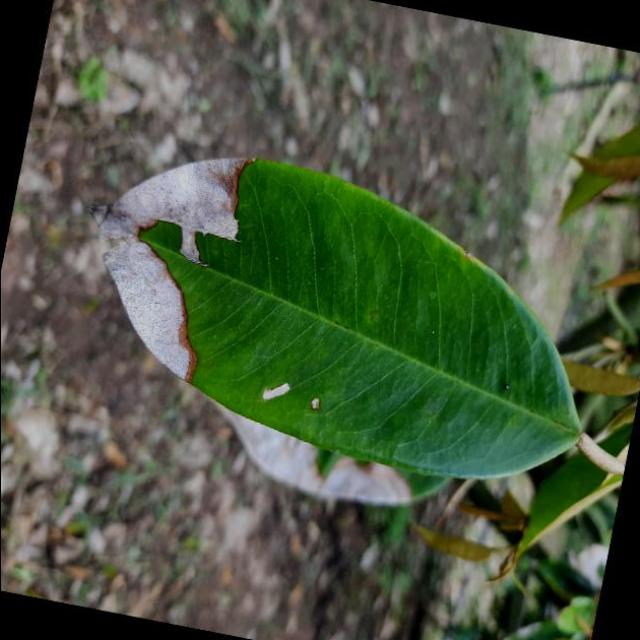Leaf Blight: (37, 123, 628, 546)
